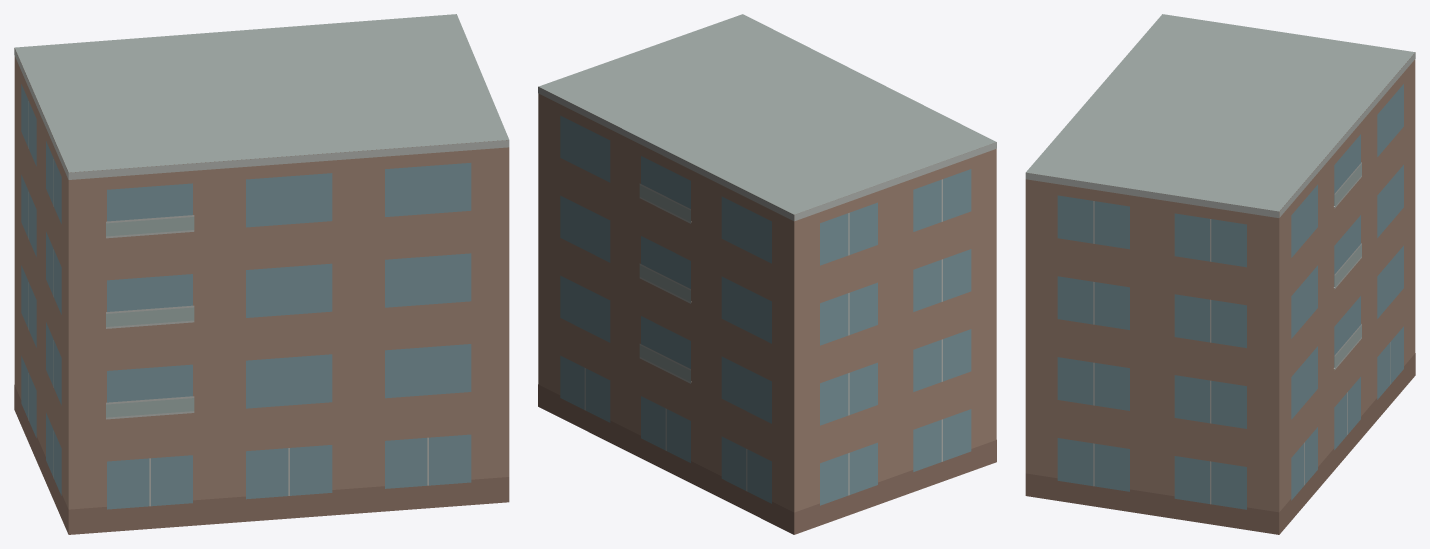
Rendered from survey-upis-32880041.glb.
3 renders of one model, left to right at view 1: azimuth 30°, elevation 25°; view 2: azimuth 150°, elevation 25°; view 3: azimuth 270°, elevation 25°, orthographic. The views are drawn at different scales.
Parts seen in each view (by area): view 1: survey-upis-32880041.tmp; view 2: survey-upis-32880041.tmp; view 3: survey-upis-32880041.tmp.
Boxes of the visible parts, x1,y1,x2,y2 form: survey-upis-32880041.tmp: (14,14,509,534); survey-upis-32880041.tmp: (538,14,996,534); survey-upis-32880041.tmp: (1025,14,1415,534).
Size of the model in its own units: 15.47 by 11.8 by 12.9.
